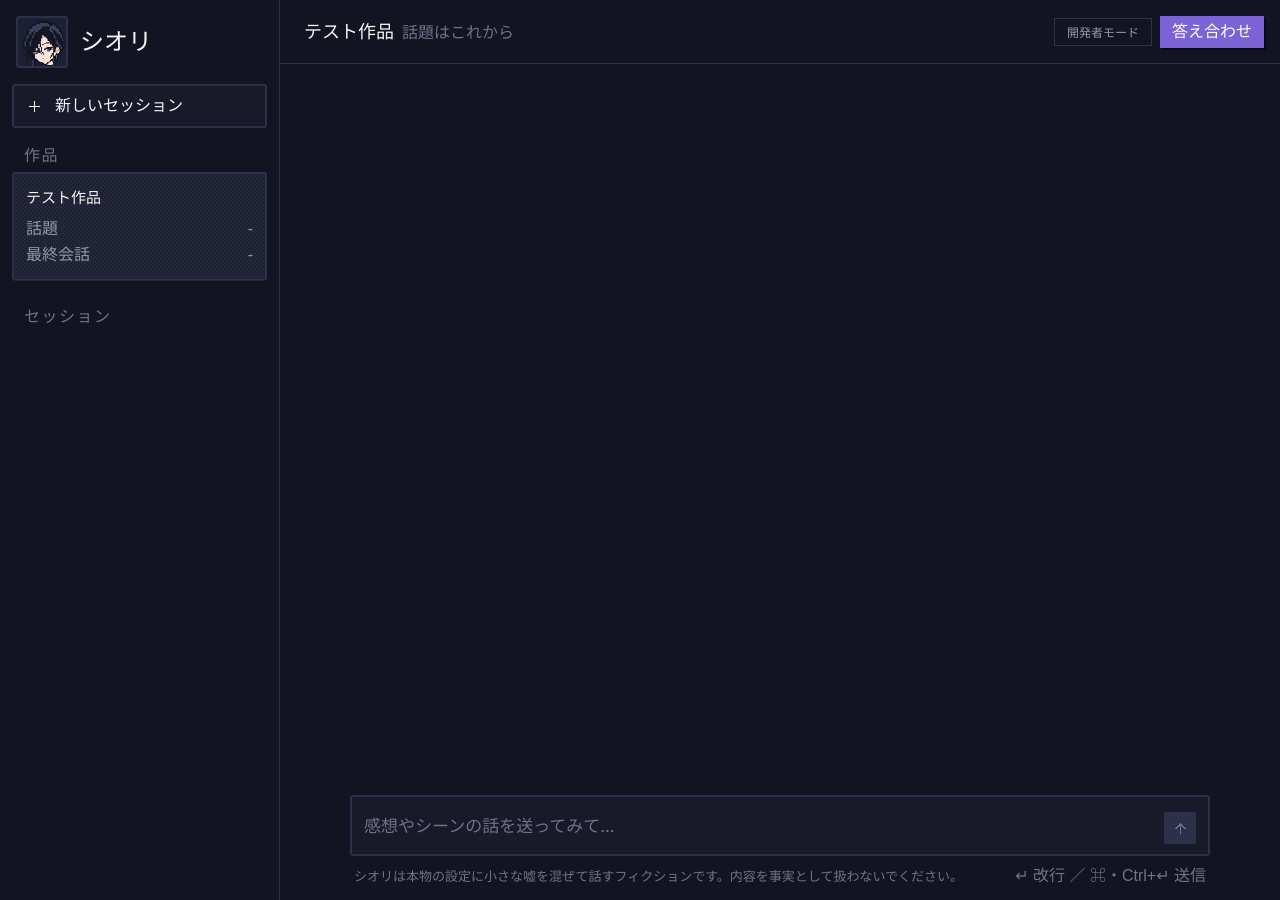
Test: ChatApp: 1回の送信で複数の吹き出しを積む › 送信が message-start の前に失敗したら、空の吹き出しを残さずエラーだけ出す
The image size is (1280, 900).
Type "hi" into the text box with placeholder "感想やシーンの話を送ってみて..." at (760, 826), box [364,805,1156,846]
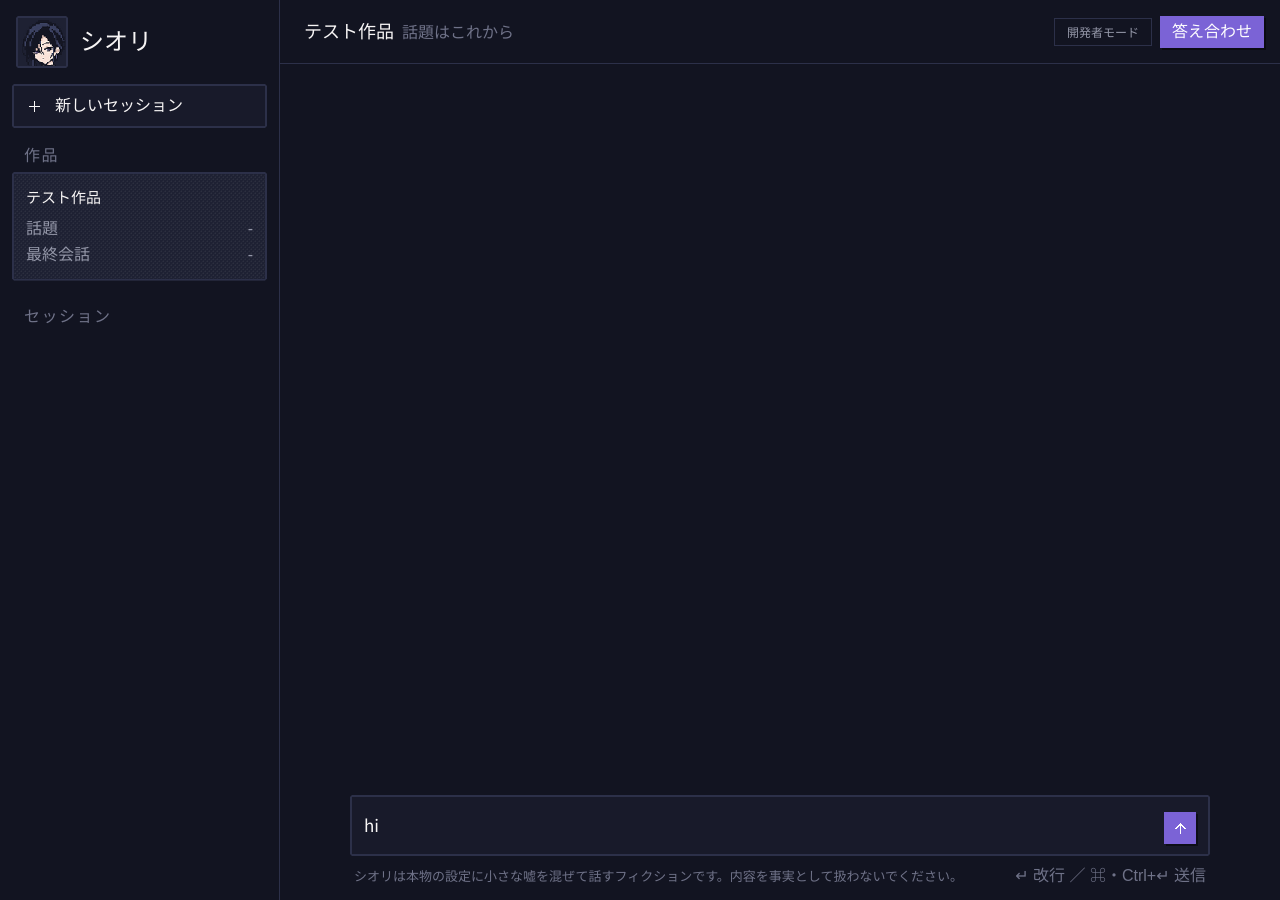
Click the button named "送信" at (1180, 828), box [1164,812,1196,844]
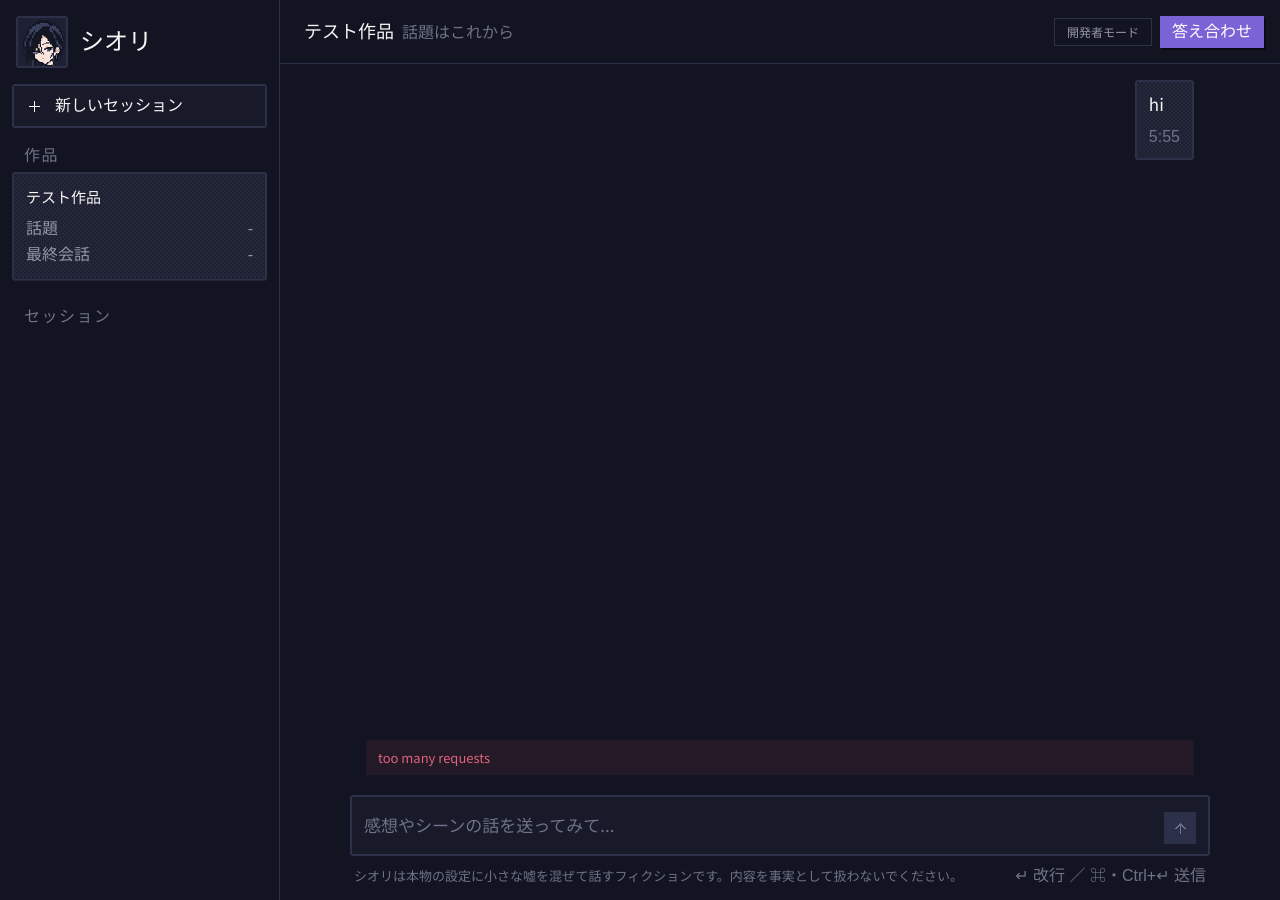
Check: the text "too many requests" is shown, box [366,740,1194,775]
